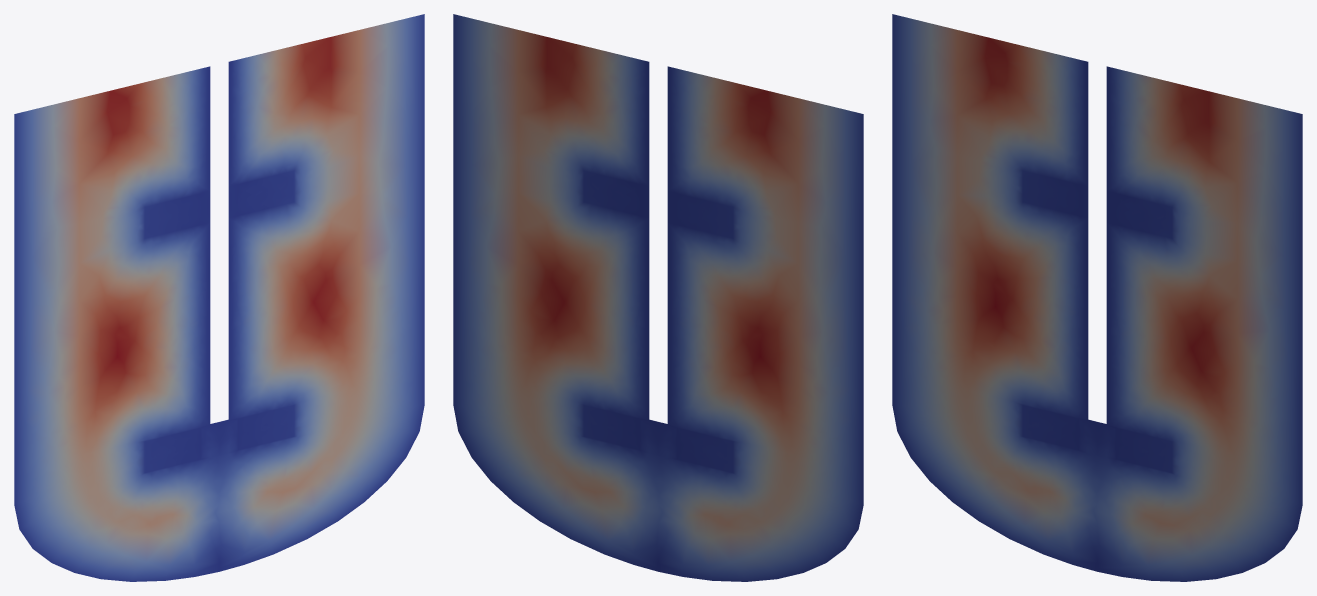
File: eddy_c21.fbx
3 views of the same model, side by side, from view 1: azimuth 30°, elevation 25°; view 2: azimuth 150°, elevation 25°; view 3: azimuth 330°, elevation 25° (orthographic).
Visible parts, largest first — view 1: Shape_IndexedFaceSet.014; view 2: Shape_IndexedFaceSet.014; view 3: Shape_IndexedFaceSet.014.
Part boxes in pixels (x1,y1,x2,y2): Shape_IndexedFaceSet.014: [14, 14, 424, 581]; Shape_IndexedFaceSet.014: [453, 14, 863, 581]; Shape_IndexedFaceSet.014: [892, 14, 1302, 581].
Bounding box in the file's own units: 110 × 130 × 3.42e-05.
